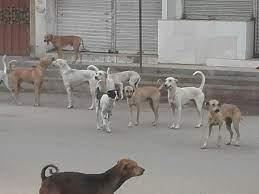normal_dogs: (38, 156, 152, 194), (162, 70, 211, 132), (55, 54, 100, 111), (8, 54, 54, 102), (120, 77, 165, 125), (204, 96, 244, 150), (93, 65, 144, 103), (41, 25, 93, 60), (94, 88, 122, 130)
